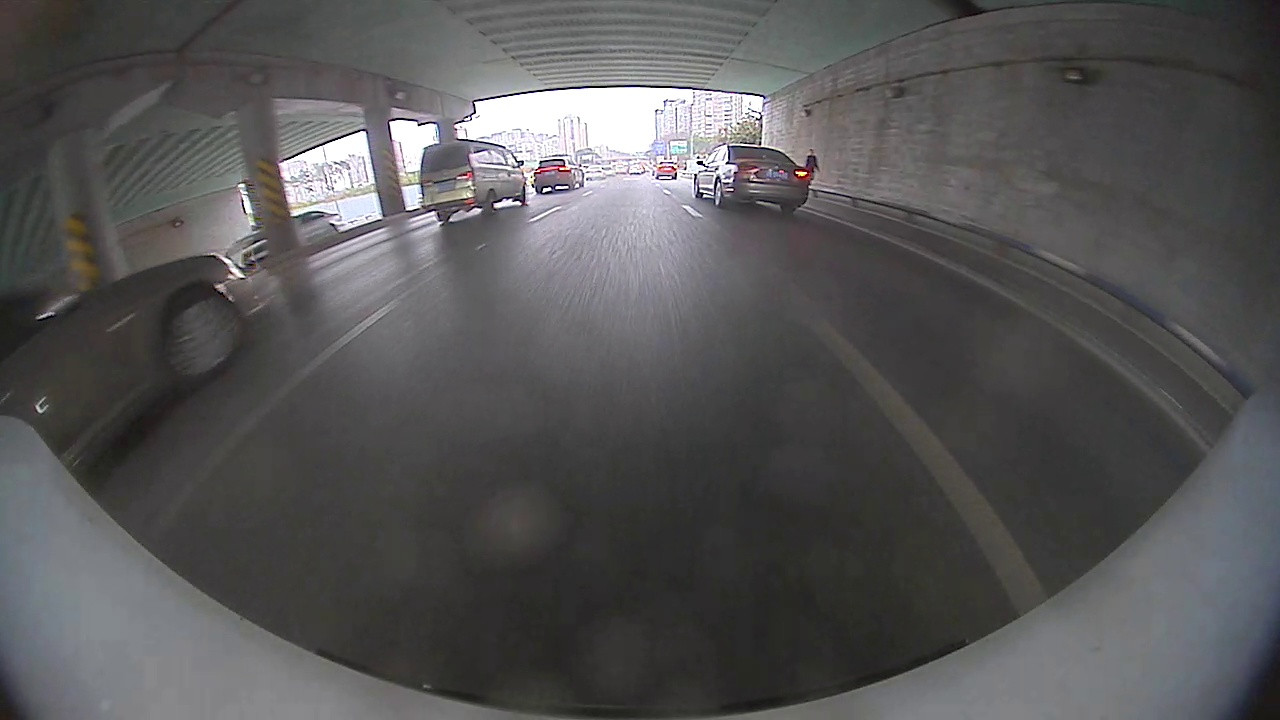car: (1, 250, 276, 485), (418, 137, 529, 226), (690, 141, 813, 217), (530, 153, 587, 196)
front: (158, 285, 251, 389)
person: (805, 147, 817, 197)
rear: (711, 179, 726, 208)
